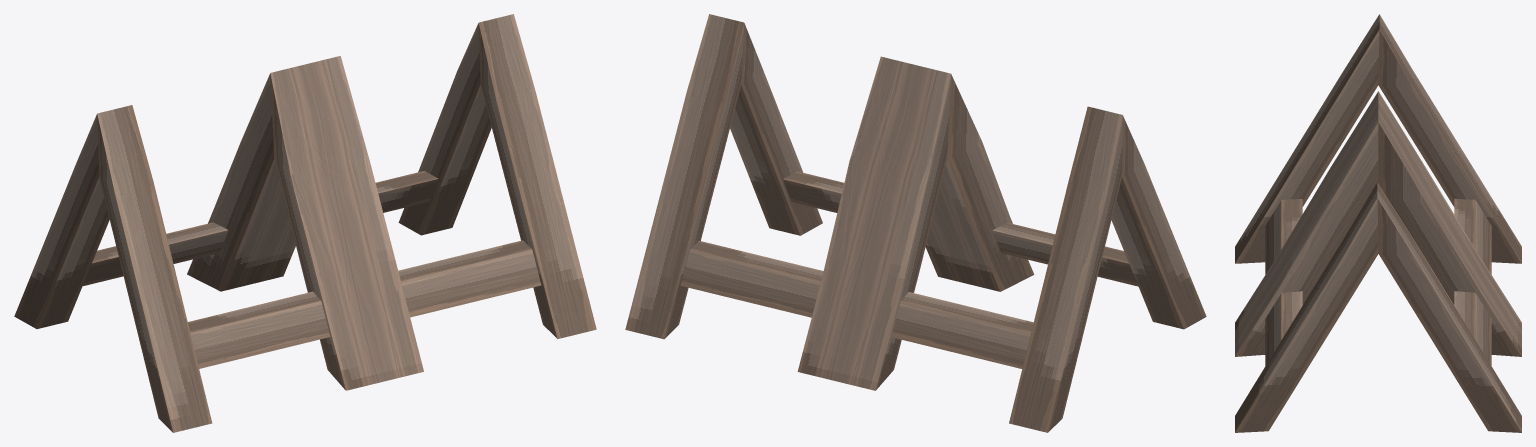
The model's file is SM_RoofPoles_Top_02.fbx.
The picture shows the model from 3 angles, left to right: view 1: azimuth 30°, elevation 25°; view 2: azimuth 150°, elevation 25°; view 3: azimuth 270°, elevation 25°; orthographic projection. The views are drawn at different scales.
Parts seen in each view (by area): view 1: SM_RoofPoles_Top_02_LOD0; view 2: SM_RoofPoles_Top_02_LOD0; view 3: SM_RoofPoles_Top_02_LOD0.
Boxes of the visible parts, x1=… form: SM_RoofPoles_Top_02_LOD0: x1=14, y1=14, x2=596, y2=432; SM_RoofPoles_Top_02_LOD0: x1=625, y1=14, x2=1206, y2=432; SM_RoofPoles_Top_02_LOD0: x1=1235, y1=14, x2=1521, y2=432.
Bounding box in the file's own units: 771 × 502 × 452.
